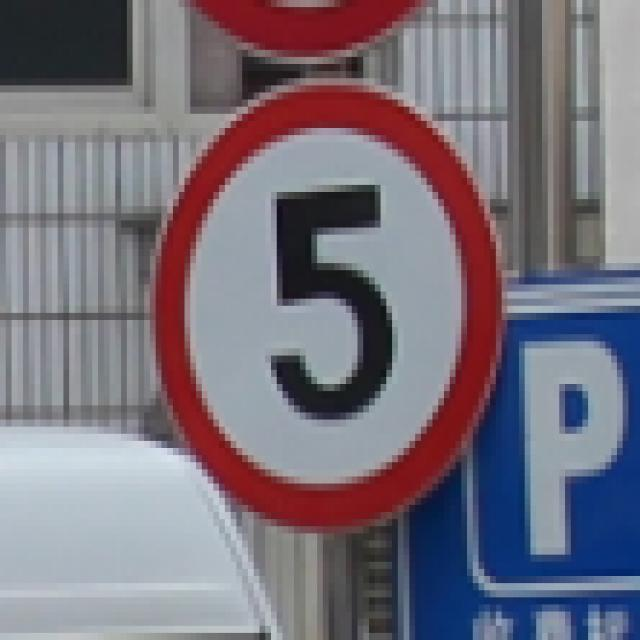Speed: (140, 68, 540, 518)
